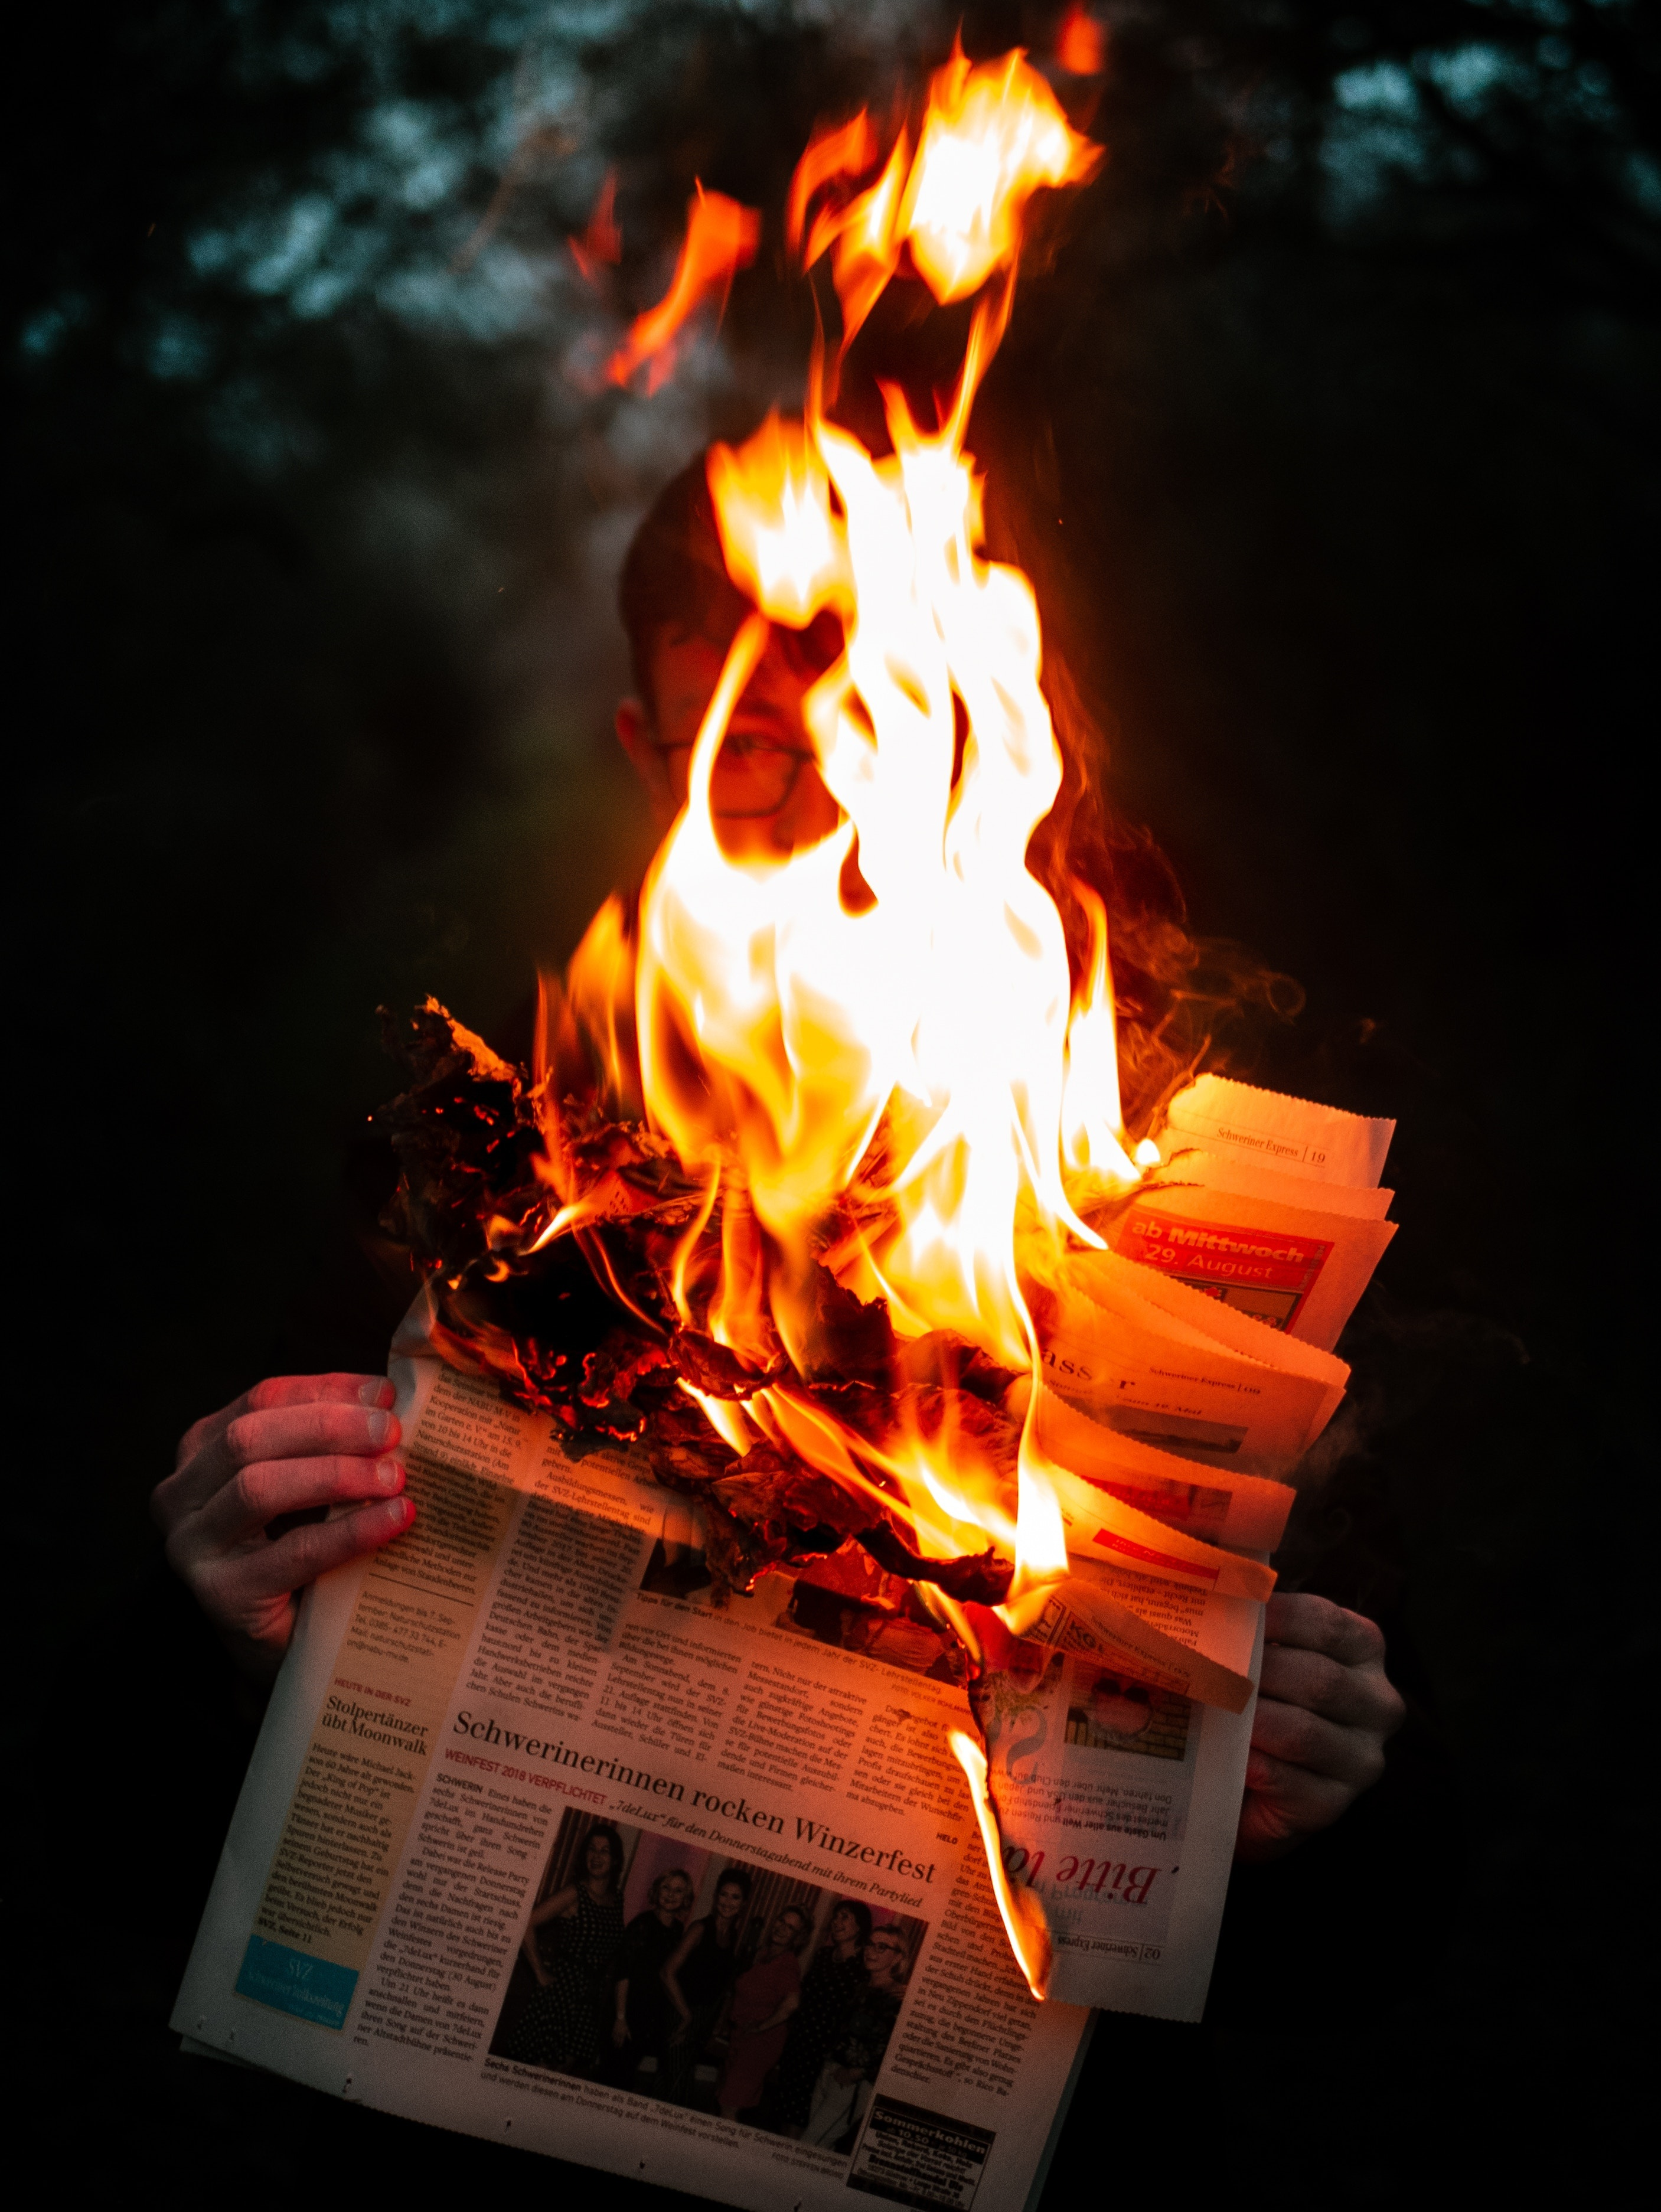fire: (506, 14, 1207, 1614)
